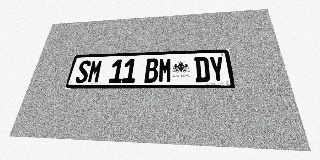1: (109, 59, 125, 83), (122, 59, 137, 83)
B: (144, 58, 159, 83)
D: (194, 57, 210, 82)
M: (87, 60, 103, 83), (158, 58, 172, 83)
S: (74, 60, 92, 83)
Y: (208, 56, 226, 82)
